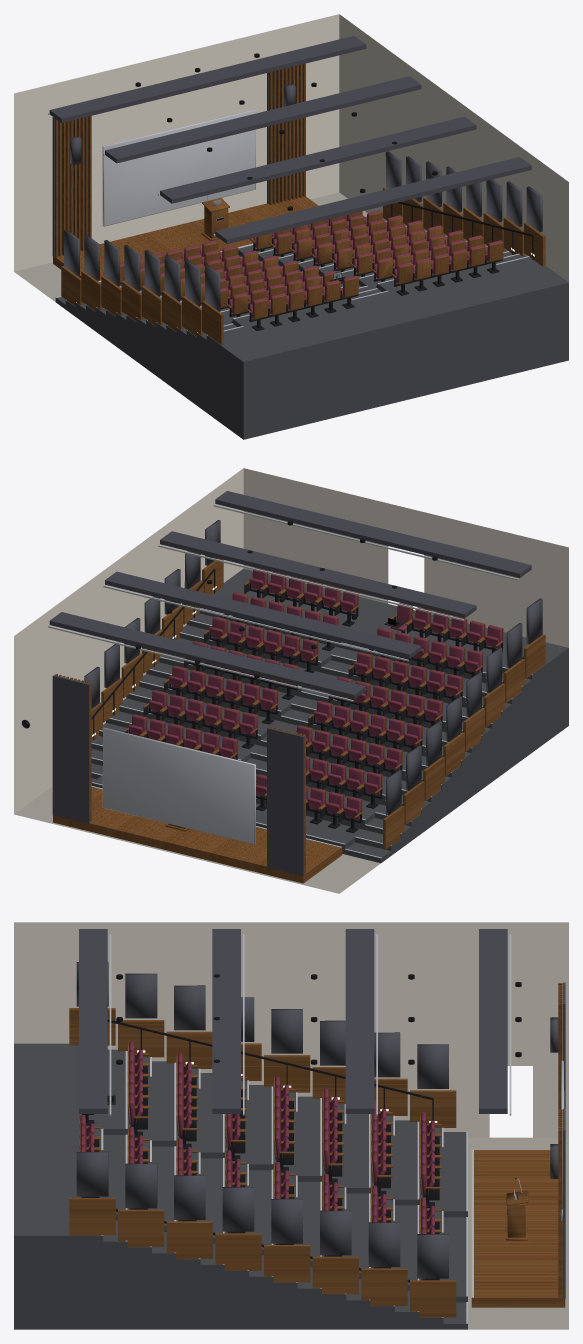
The model's file is set6.glb.
3 views of the same model, one above another, from view 1: azimuth 30°, elevation 25°; view 2: azimuth 150°, elevation 25°; view 3: azimuth 270°, elevation 25° (orthographic). The views are drawn at different scales.
Visible parts, largest first — view 1: Static; view 2: Static; view 3: Static.
Part boxes in pixels (<box>): Static: <box>14,14,568,439</box>; Static: <box>14,468,568,893</box>; Static: <box>14,922,568,1329</box>.
Bounding box in the file's own units: 12.6 × 6.6 × 15.4.
Materials: 18 (5 with a texture image).
